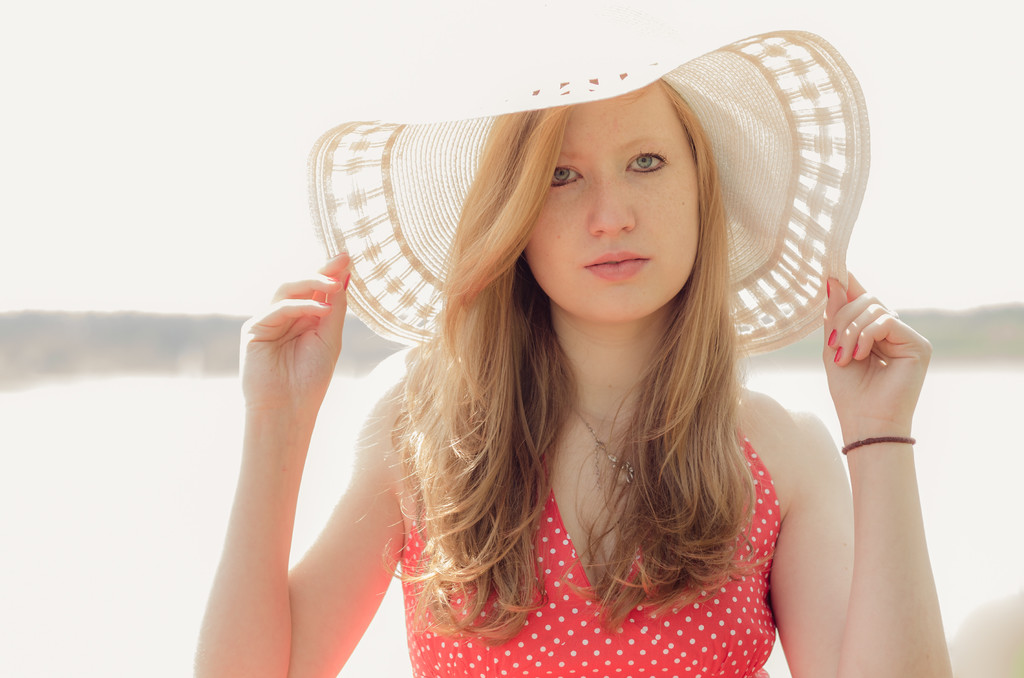Human_hand: (156, 238, 361, 651), (237, 245, 351, 423), (825, 266, 932, 440)
